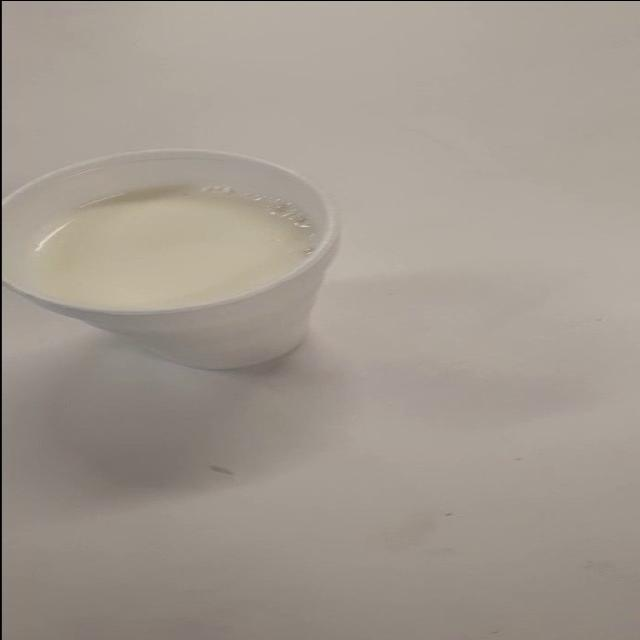Milk: (0, 131, 378, 377)
